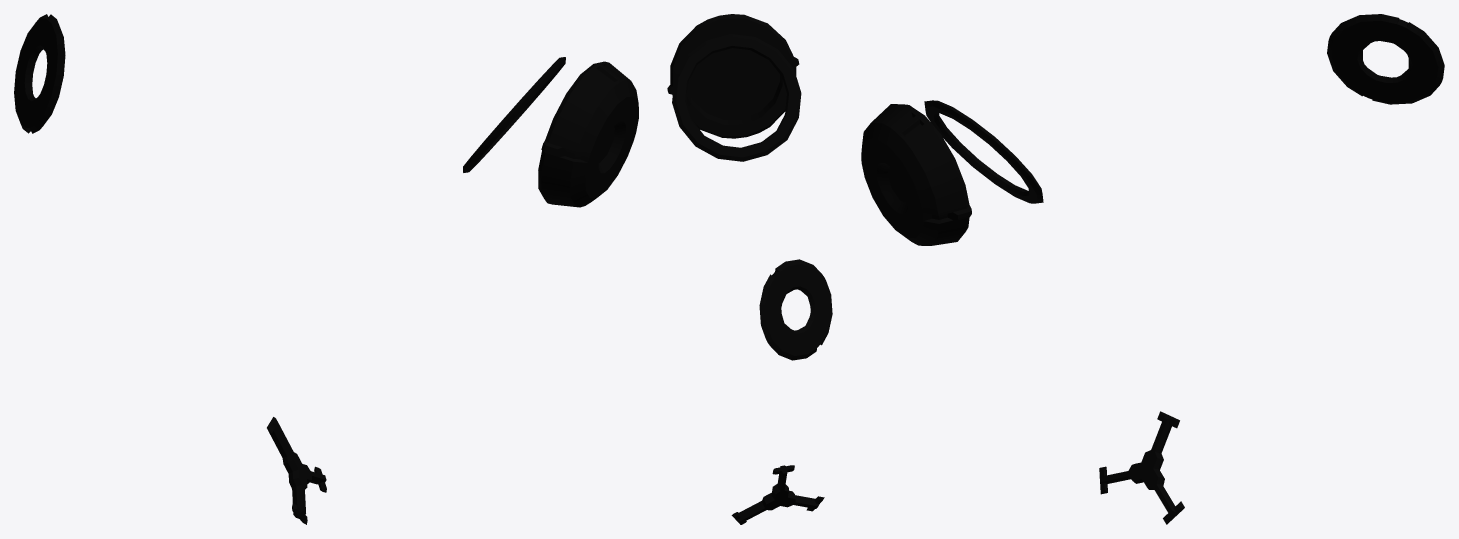
File: prop_static_yao_container_02_07.glb
3 views of the same model, side by side, from view 1: azimuth 30°, elevation 25°; view 2: azimuth 150°, elevation 25°; view 3: azimuth 270°, elevation 25° (orthographic). The views are drawn at different scales.
Parts seen in each view (by area): view 1: prop_static_yao_container_02_07; view 2: prop_static_yao_container_02_07; view 3: prop_static_yao_container_02_07.
Boxes of the visible parts, x1=… form: prop_static_yao_container_02_07: x1=14, y1=14, x2=638, y2=524; prop_static_yao_container_02_07: x1=667, y1=14, x2=832, y2=524; prop_static_yao_container_02_07: x1=861, y1=14, x2=1444, y2=524.
Size of the model in its own units: 2.38 by 2.82 by 3.09.
Materials: 1 (1 with a texture image).
